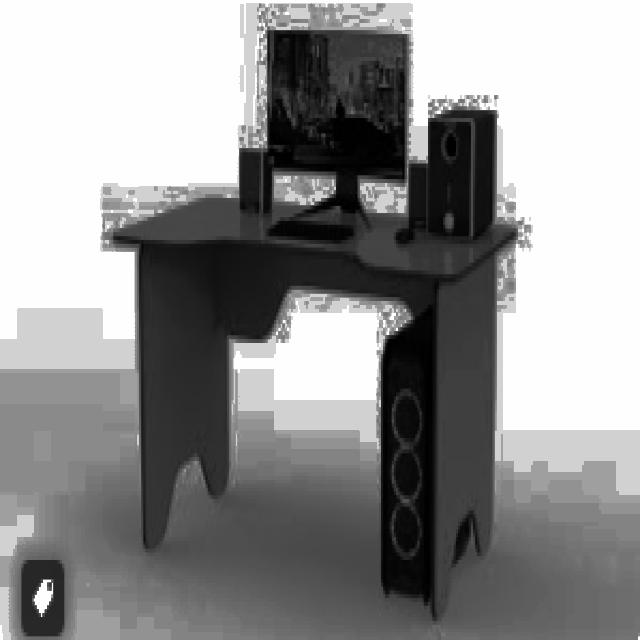table: (111, 191, 516, 617)
